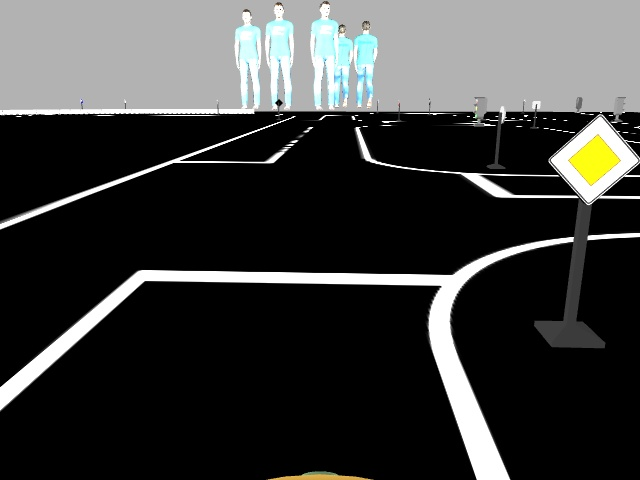Priority: (544, 112, 639, 205)
